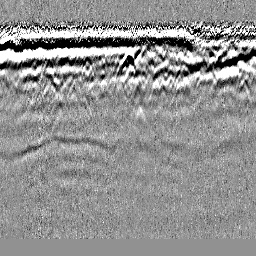cavity: (116, 45, 138, 79)
